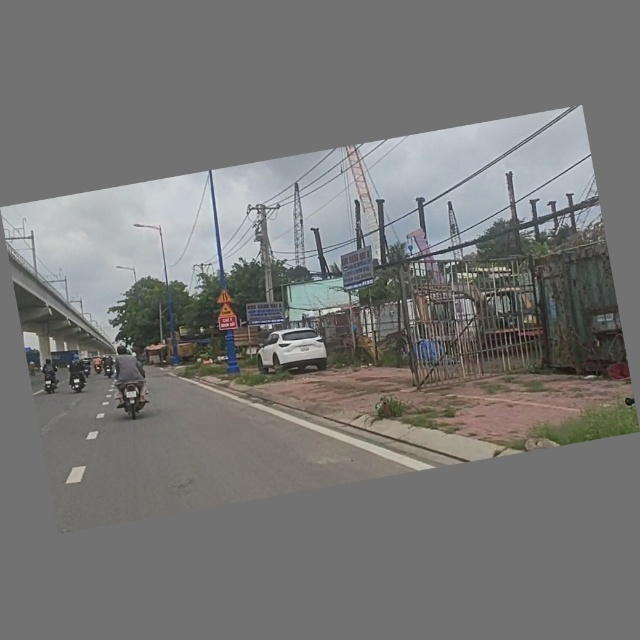W.203c: (215, 288, 232, 305)
W.245a: (216, 302, 237, 318)
